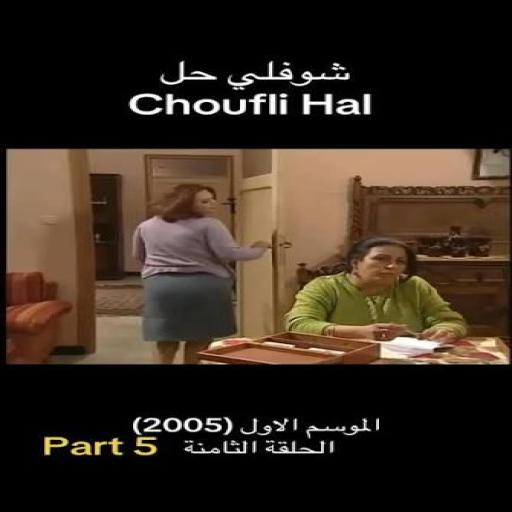AZZA: (153, 184, 215, 221)
jannet: (345, 237, 414, 287)
